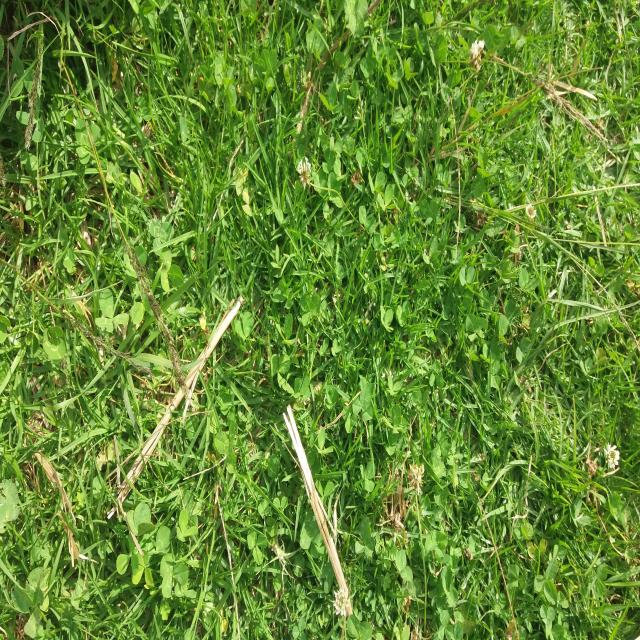Four Leaf Clover: (425, 530, 448, 557)
